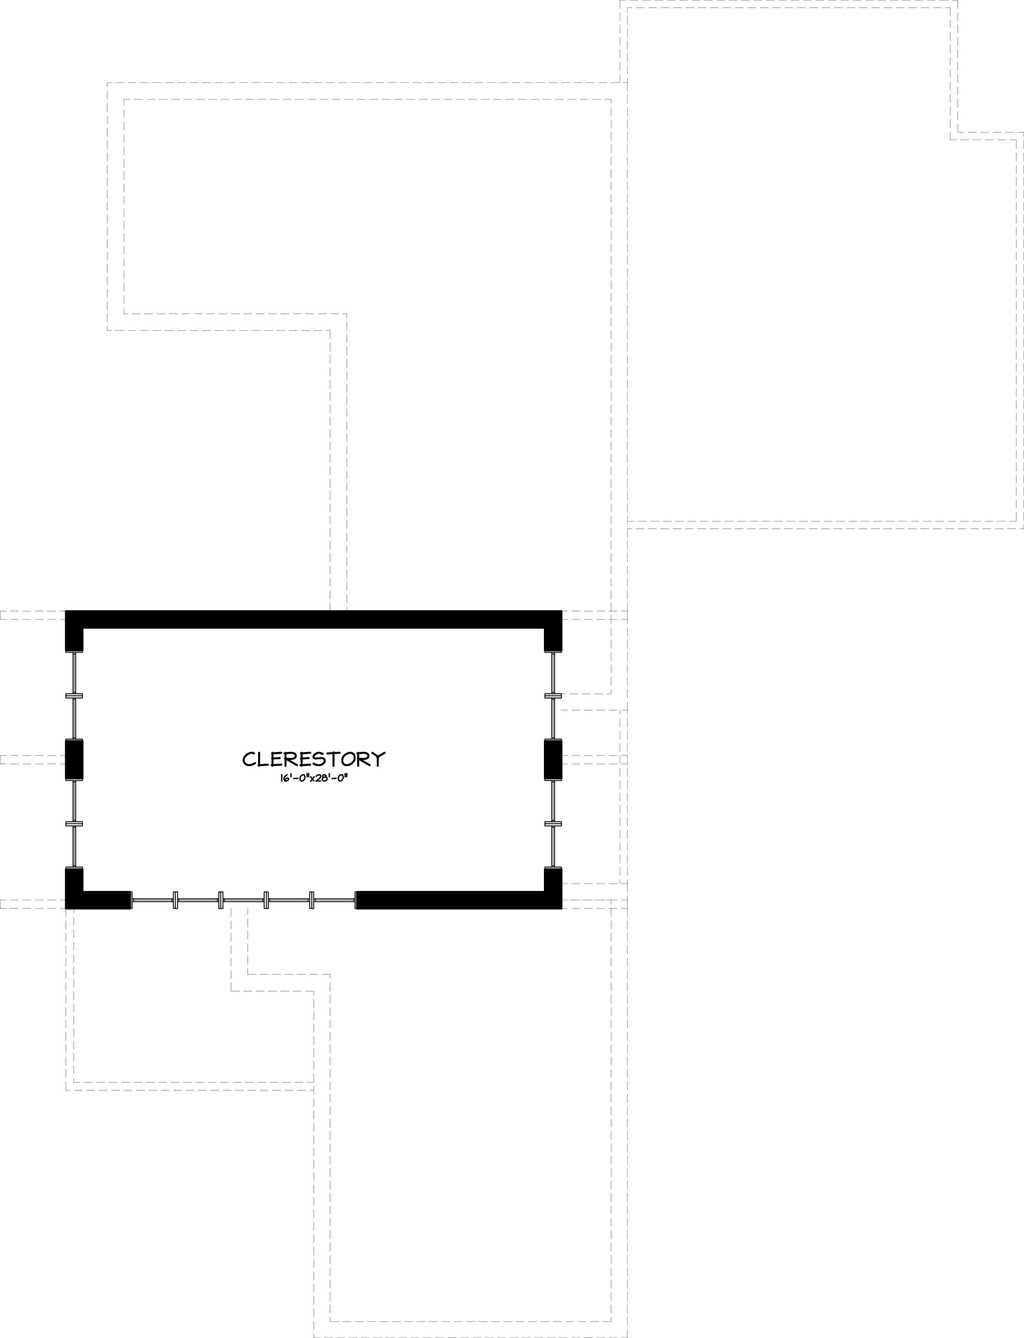window: (136, 889, 364, 913), (57, 777, 102, 871), (55, 656, 96, 746), (543, 785, 574, 873), (539, 656, 566, 738)
